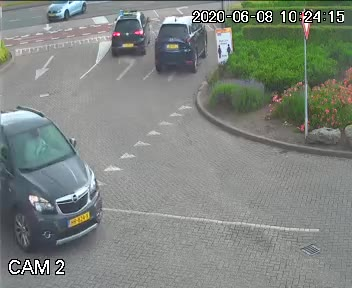car: (0, 101, 110, 252), (143, 16, 213, 79), (110, 5, 146, 57), (40, 0, 91, 25)
